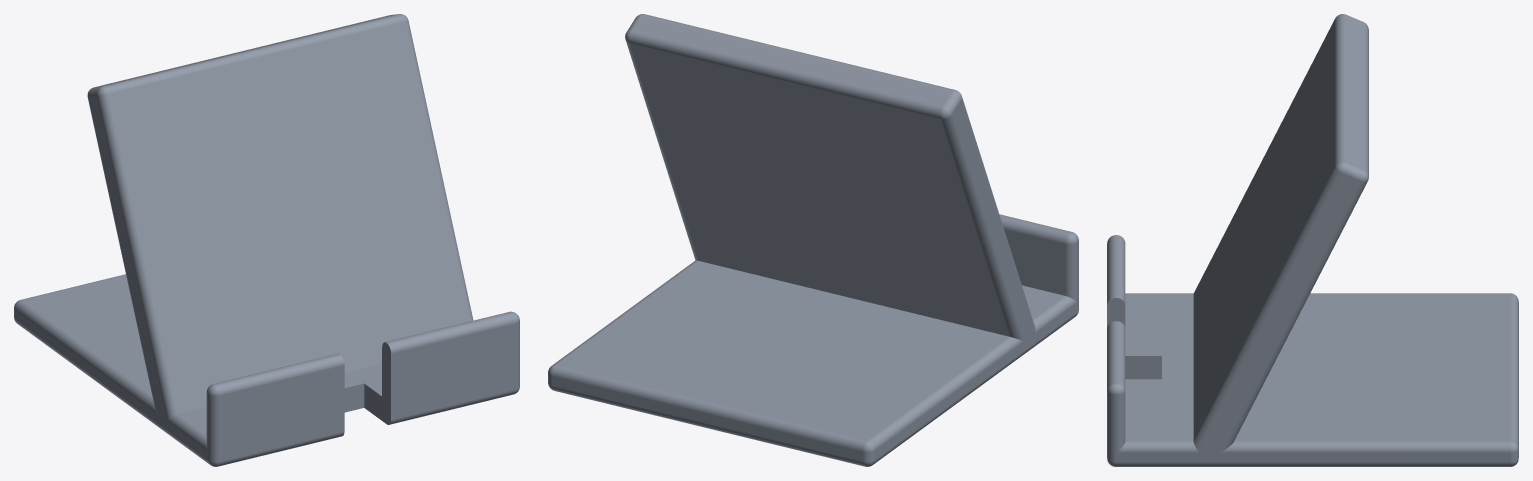
File: step-3.glb
3 renders of one model, left to right at view 1: azimuth 30°, elevation 25°; view 2: azimuth 150°, elevation 25°; view 3: azimuth 270°, elevation 25°, orthographic. The views are drawn at different scales.
Parts seen in each view (by area): view 1: face_d7e8f509fa9c16a48230, face_2fa6553c2084c6b81cf7, face_d5e5d81c41ef7f7f7e9a, face_e0e12c08a4ba235158c6, face_8f3d80b718ee596704d6, face_d7b4b895ac7e9e9c6b0d, face_23bdd580b7674998d959, face_74eb14c22cbc398c3bbb, face_1efb96e5aef85259973b, face_607884d5c5aedf45d62f, face_4d5999d528ac9e234706, face_a96a15ff38c2a9545cdc (+8 smaller); view 2: face_6645e22ef7204f87cb88, face_e0e12c08a4ba235158c6, face_8f3d80b718ee596704d6, face_3b4dc43201b6f42a9f28, face_4a28f87f0db225ddf8c7, face_d56a5ed7c0cf87d8e905, face_a6840aafa46258b2824c, face_07fb71ccfc65691e0fb9, face_cefb2d8293e527145861, face_74eb14c22cbc398c3bbb, face_1e183e03cd839d795f3d, face_23bdd580b7674998d959 (+7 smaller); view 3: face_e0e12c08a4ba235158c6, face_d7e8f509fa9c16a48230, face_a6df1568cc23dc518d8f, face_a96a15ff38c2a9545cdc, face_83b520738df2a55e18d4, face_1efb96e5aef85259973b, face_3b4dc43201b6f42a9f28, face_c868114f576e1c74891e, face_7c40594ad343080f0c12, face_23bdd580b7674998d959, face_d2b469aba4fa86518da6, face_d56a5ed7c0cf87d8e905 (+8 smaller).
Part boxes in pixels (left/top/right/bottom): face_d7e8f509fa9c16a48230: left=108, top=22, right=468, bottom=413; face_2fa6553c2084c6b81cf7: left=220, top=365, right=344, bottom=461; face_d5e5d81c41ef7f7f7e9a: left=391, top=323, right=515, bottom=419; face_e0e12c08a4ba235158c6: left=23, top=275, right=151, bottom=394; face_8f3d80b718ee596704d6: left=15, top=96, right=208, bottom=459; face_d7b4b895ac7e9e9c6b0d: left=97, top=94, right=177, bottom=420; face_23bdd580b7674998d959: left=103, top=14, right=403, bottom=93; face_74eb14c22cbc398c3bbb: left=15, top=300, right=156, bottom=413; face_1efb96e5aef85259973b: left=404, top=21, right=473, bottom=321; face_607884d5c5aedf45d62f: left=216, top=354, right=344, bottom=395; face_4d5999d528ac9e234706: left=387, top=313, right=515, bottom=353; face_a96a15ff38c2a9545cdc: left=178, top=364, right=381, bottom=434; face_6645e22ef7204f87cb88: left=630, top=43, right=1008, bottom=336; face_e0e12c08a4ba235158c6: left=557, top=261, right=1008, bottom=440; face_8f3d80b718ee596704d6: left=875, top=101, right=1077, bottom=459; face_3b4dc43201b6f42a9f28: left=632, top=17, right=950, bottom=106; face_4a28f87f0db225ddf8c7: left=629, top=31, right=942, bottom=118; face_d56a5ed7c0cf87d8e905: left=552, top=365, right=866, bottom=451; face_a6840aafa46258b2824c: left=552, top=376, right=862, bottom=461; face_07fb71ccfc65691e0fb9: left=940, top=115, right=1023, bottom=341; face_cefb2d8293e527145861: left=1004, top=229, right=1064, bottom=295; face_74eb14c22cbc398c3bbb: left=867, top=336, right=1023, bottom=450; face_1e183e03cd839d795f3d: left=552, top=386, right=864, bottom=466; face_23bdd580b7674998d959: left=641, top=14, right=954, bottom=92; face_e0e12c08a4ba235158c6: left=1234, top=294, right=1509, bottom=441; face_d7e8f509fa9c16a48230: left=1193, top=19, right=1334, bottom=440; face_a6df1568cc23dc518d8f: left=1116, top=174, right=1509, bottom=461; face_a96a15ff38c2a9545cdc: left=1125, top=294, right=1193, bottom=441; face_83b520738df2a55e18d4: left=1220, top=441, right=1509, bottom=452; face_1efb96e5aef85259973b: left=1193, top=167, right=1342, bottom=452; face_3b4dc43201b6f42a9f28: left=1346, top=15, right=1363, bottom=169; face_c868114f576e1c74891e: left=1220, top=181, right=1367, bottom=452; face_7c40594ad343080f0c12: left=1116, top=462, right=1509, bottom=466; face_23bdd580b7674998d959: left=1335, top=14, right=1346, bottom=165; face_d2b469aba4fa86518da6: left=1107, top=298, right=1161, bottom=379; face_d56a5ed7c0cf87d8e905: left=1510, top=294, right=1518, bottom=448.
Size of the model in its own units: 0.08 by 0.0733 by 0.09.
